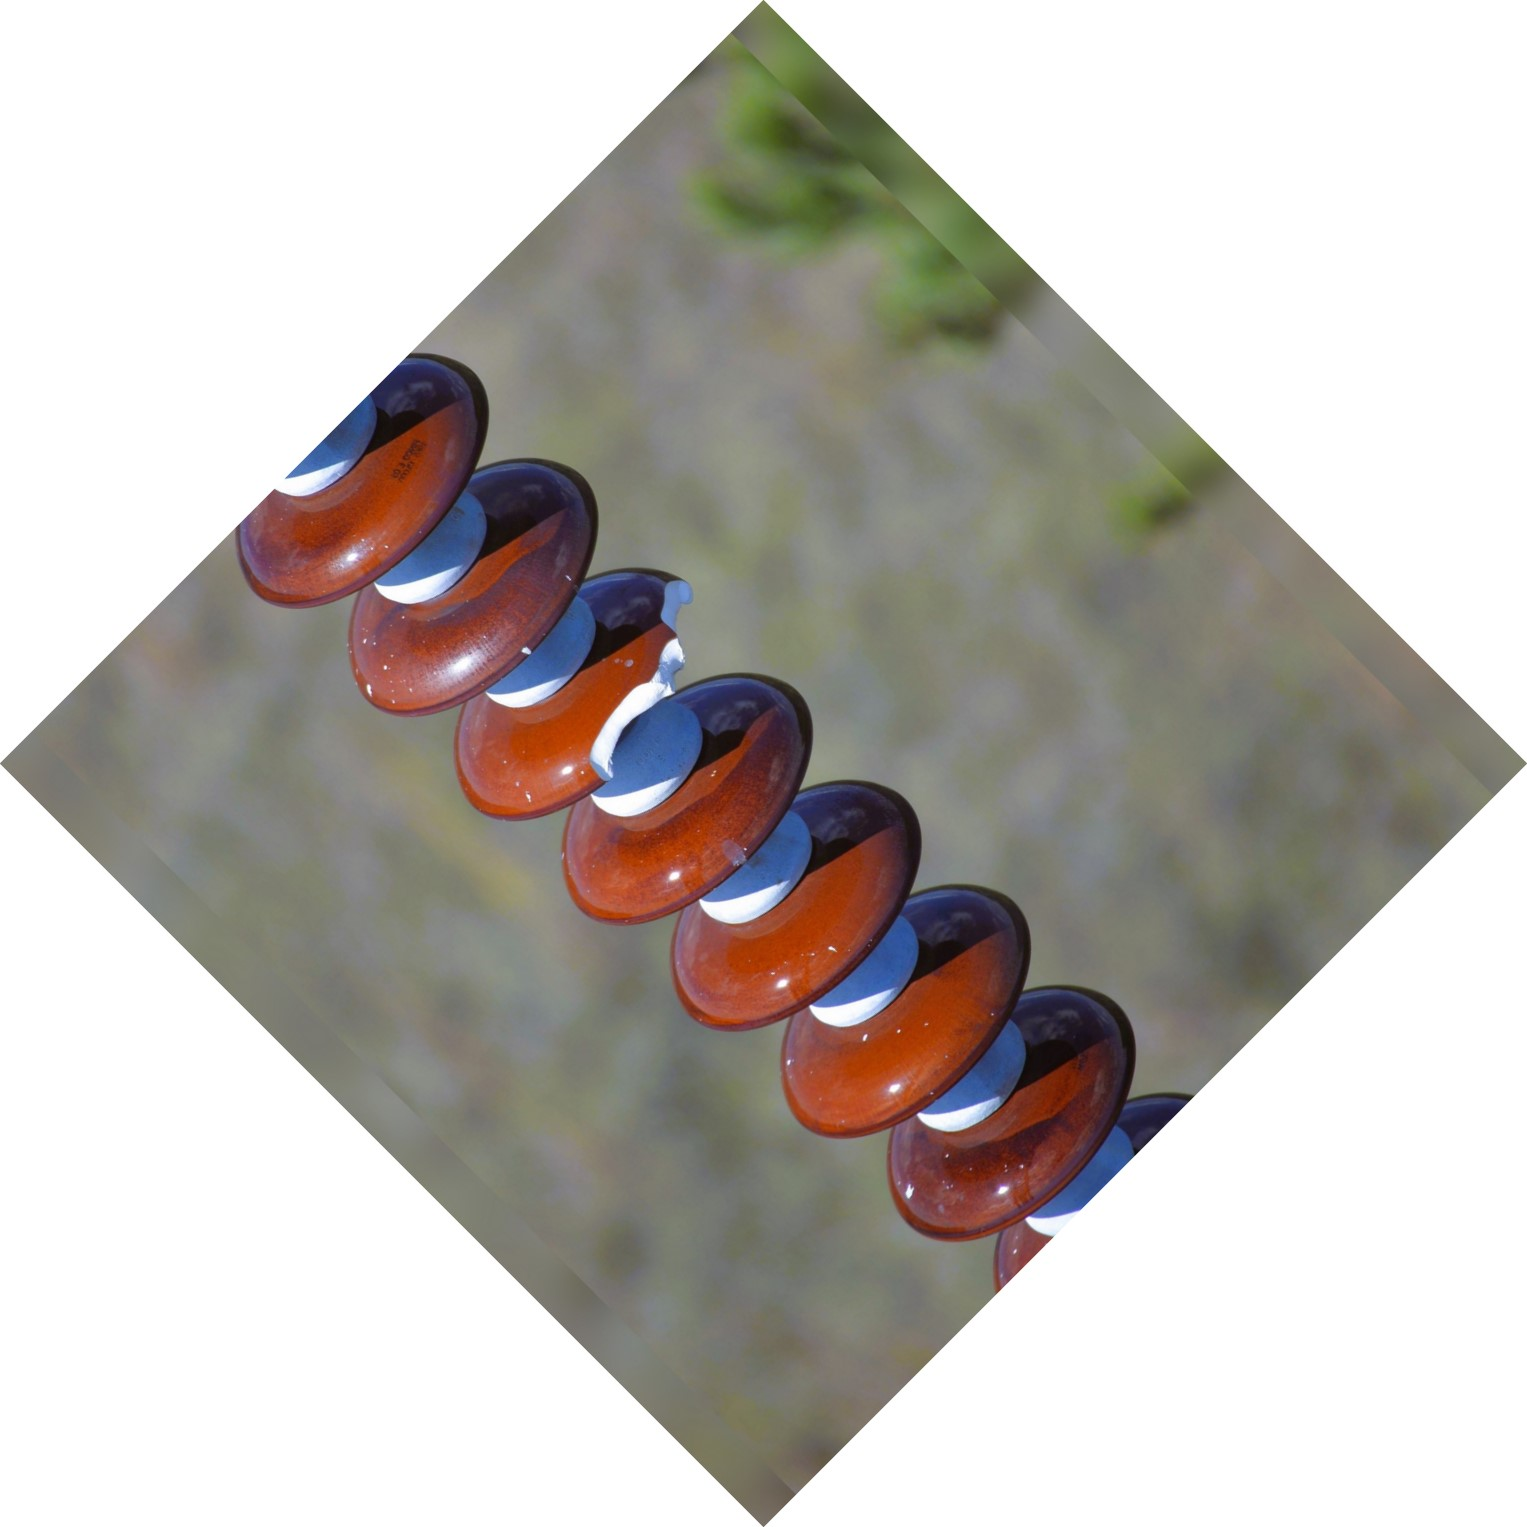insulator breakage: (453, 559, 712, 831)
